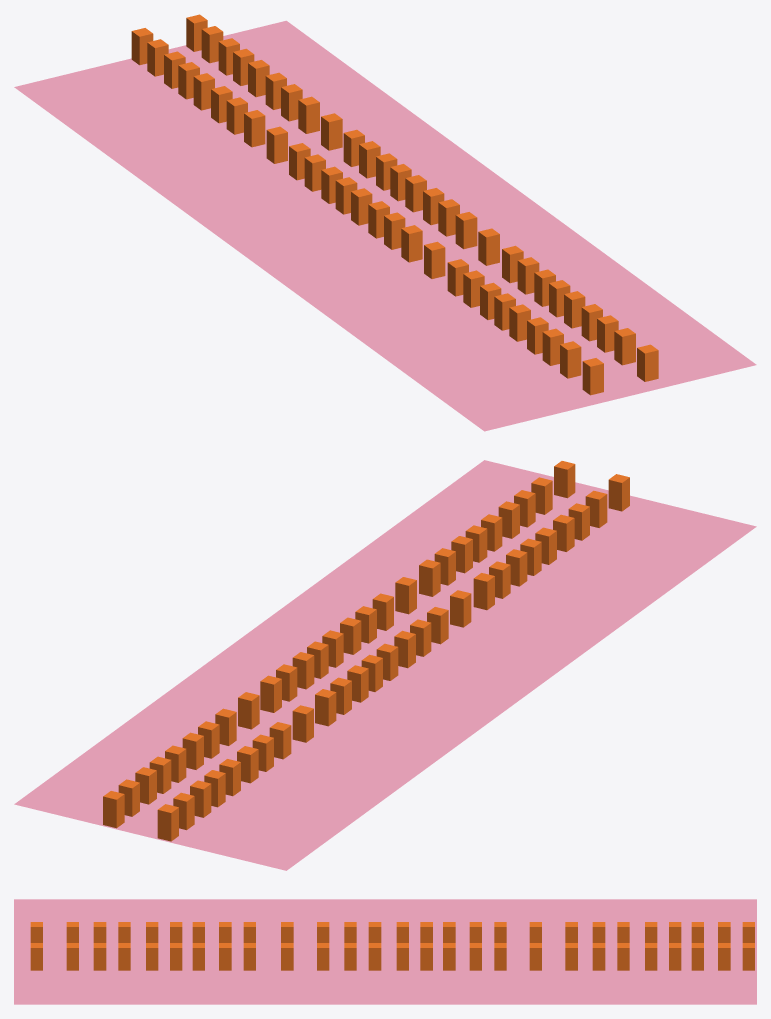
The model's file is cubes.obj.
3 renders of one model, top to bottom at view 1: azimuth 30°, elevation 25°; view 2: azimuth 150°, elevation 25°; view 3: azimuth 270°, elevation 25°, orthographic. The views are drawn at different scales.
Parts seen in each view (by area): view 1: Plane003, Plane001, Plane002, Box004, Box002, Box020, Box038, Box037, Box040, Box003, Box019, Box021 (+3 smaller); view 2: Plane002, Plane003, Plane001, Box001, Box019, Box054, Box017, Box020, Box035, Box036, Box037, Box038 (+6 smaller); view 3: Plane001, Plane003, Plane002, Box008, Box024, Box042, Box002, Box004, Box006, Box010, Box012, Box014 (+45 smaller).
Part boxes in pixels (x1=…): Plane003: x1=327, y1=250, x2=756, y2=431; Plane001: x1=172, y1=135, x2=599, y2=316; Plane002: x1=14, y1=20, x2=442, y2=202; Box004: x1=455, y1=212, x2=477, y2=249; Box002: x1=478, y1=228, x2=499, y2=265; Box020: x1=321, y1=113, x2=342, y2=150; Box038: x1=637, y1=344, x2=658, y2=381; Box037: x1=582, y1=358, x2=603, y2=395; Box040: x1=614, y1=328, x2=635, y2=365; Box003: x1=401, y1=225, x2=422, y2=262; Box019: x1=266, y1=126, x2=287, y2=163; Box021: x1=244, y1=110, x2=265, y2=147; Plane002: x1=14, y1=690, x2=442, y2=870; Plane003: x1=328, y1=460, x2=756, y2=641; Plane001: x1=171, y1=575, x2=599, y2=756; Box001: x1=450, y1=590, x2=471, y2=627; Box019: x1=292, y1=705, x2=313, y2=742; Box054: x1=419, y1=559, x2=440, y2=596; Box017: x1=315, y1=689, x2=336, y2=726; Box020: x1=238, y1=692, x2=259, y2=729; Box035: x1=157, y1=804, x2=178, y2=841; Box036: x1=103, y1=791, x2=124, y2=828; Box037: x1=608, y1=474, x2=629, y2=511; Box038: x1=554, y1=461, x2=575, y2=498; Plane001: x1=261, y1=899, x2=510, y2=1004; Plane003: x1=14, y1=899, x2=262, y2=1004; Plane002: x1=508, y1=899, x2=756, y2=1004; Box008: x1=368, y1=943, x2=381, y2=970; Box024: x1=592, y1=943, x2=605, y2=970; Box042: x1=93, y1=943, x2=106, y2=970; Box002: x1=281, y1=943, x2=293, y2=970; Box004: x1=317, y1=943, x2=329, y2=970; Box006: x1=344, y1=943, x2=356, y2=970; Box010: x1=396, y1=943, x2=408, y2=970; Box012: x1=420, y1=943, x2=432, y2=970; Box014: x1=443, y1=943, x2=455, y2=970.
Bounding box in the file's own units: 100 × 10 × 299.
2 materials, 2 textured.
